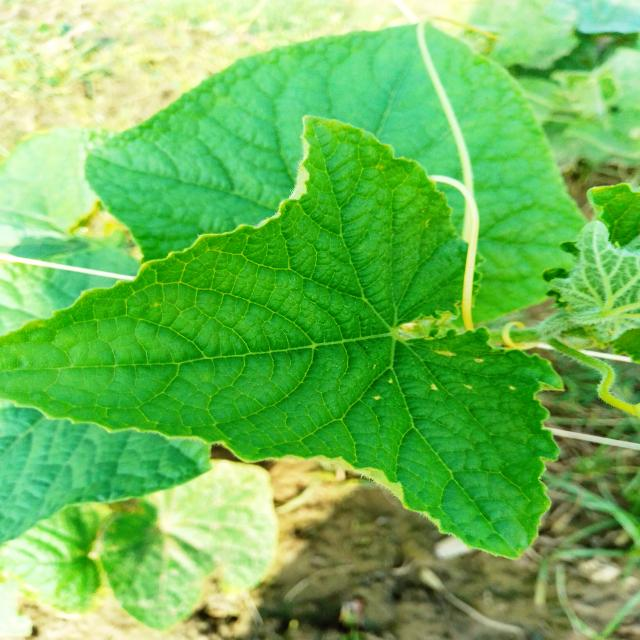Fresh-Leaf: (0, 116, 564, 561)
